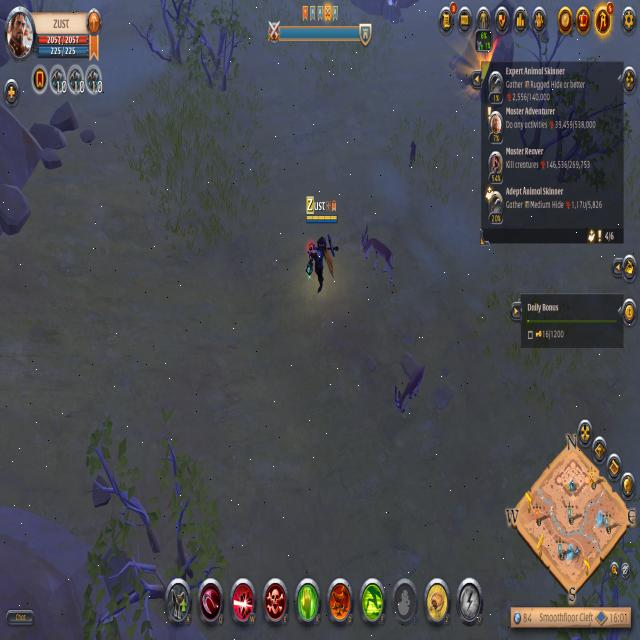deer_alive: (386, 353, 435, 425), (354, 212, 400, 286)
